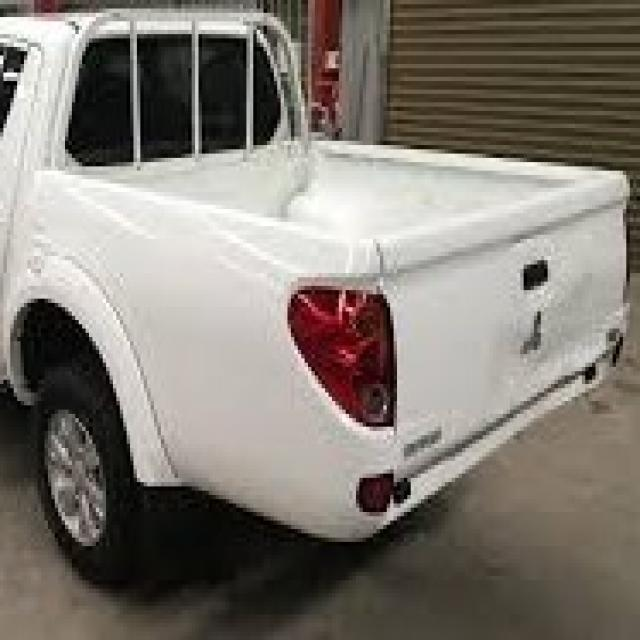minor: (280, 114, 410, 327)
